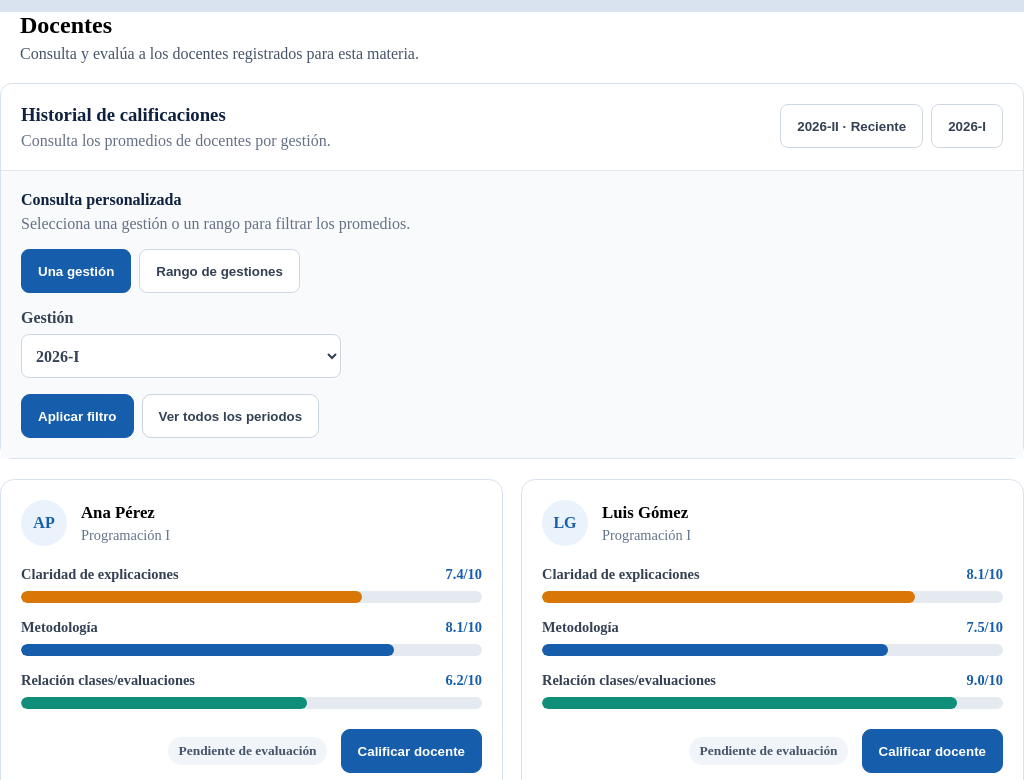
Test: HU-06.1: promedios de docentes por materia › filtra las tarjetas al elegir una gestión rápida del historial
Click the button with class "docentes__gestion-rapida" showing "2026-II · Reciente" at (852, 126), box [780,104,923,148]
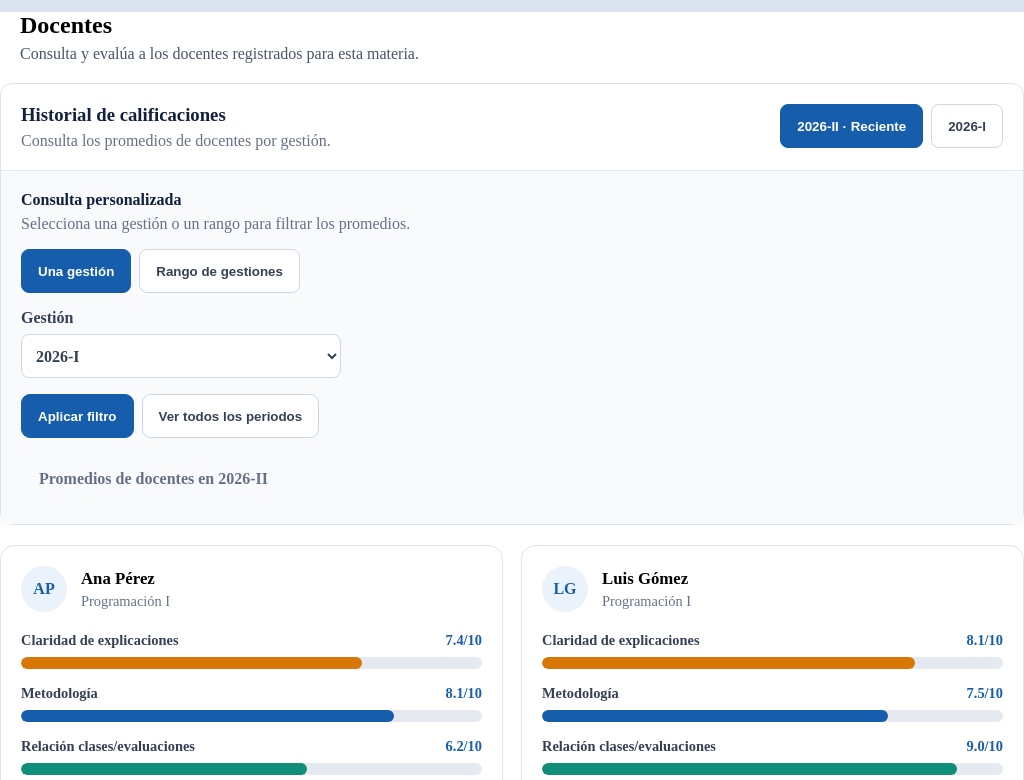
Expected: the message with class "docentes__contexto-filtro" shows "2026-II", [39,470,268,487]
